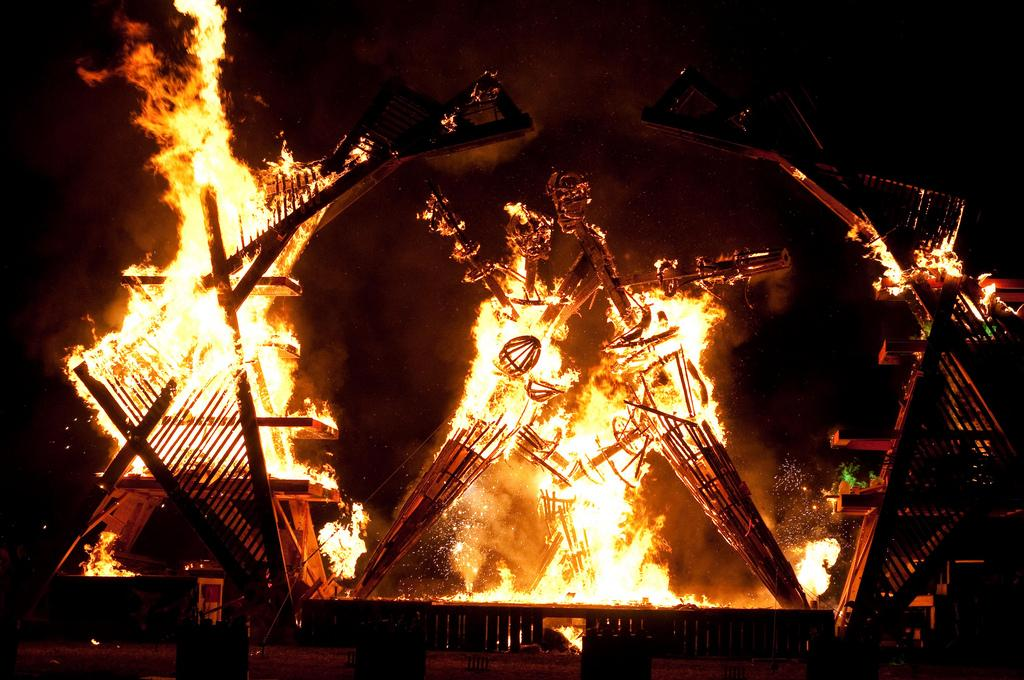fire: (128, 277, 210, 413), (162, 93, 235, 233), (560, 490, 635, 597), (475, 317, 552, 413), (657, 298, 710, 373)
